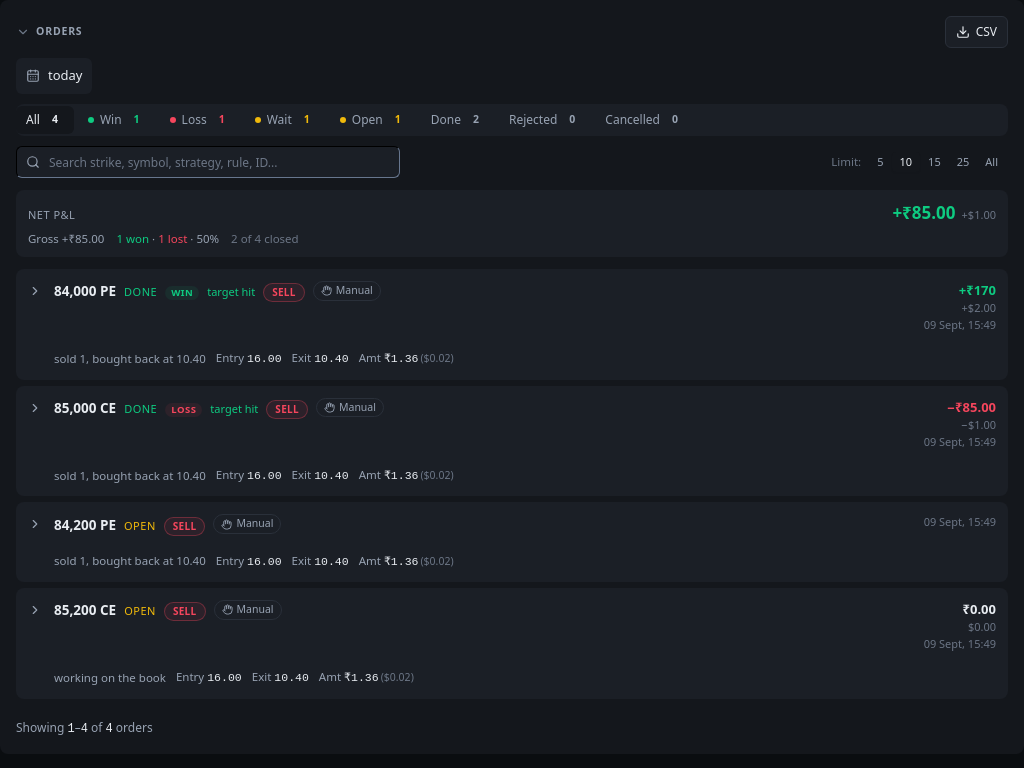
Test case: best practice tabs: win, loss, wait, open › shows Win, Loss, and Wait tabs with counts and filters correctly
Expected: the radio button with aria-label "Loss · 1" is shown, [160,106,241,134]
Expected: the radio button with aria-label "Open · 1" is shown, [330,106,417,134]
// Click Win tab: only profitable completed trade is shown
Click the radio button with aria-label "Win · 1": (117,120) [78,106,156,134]
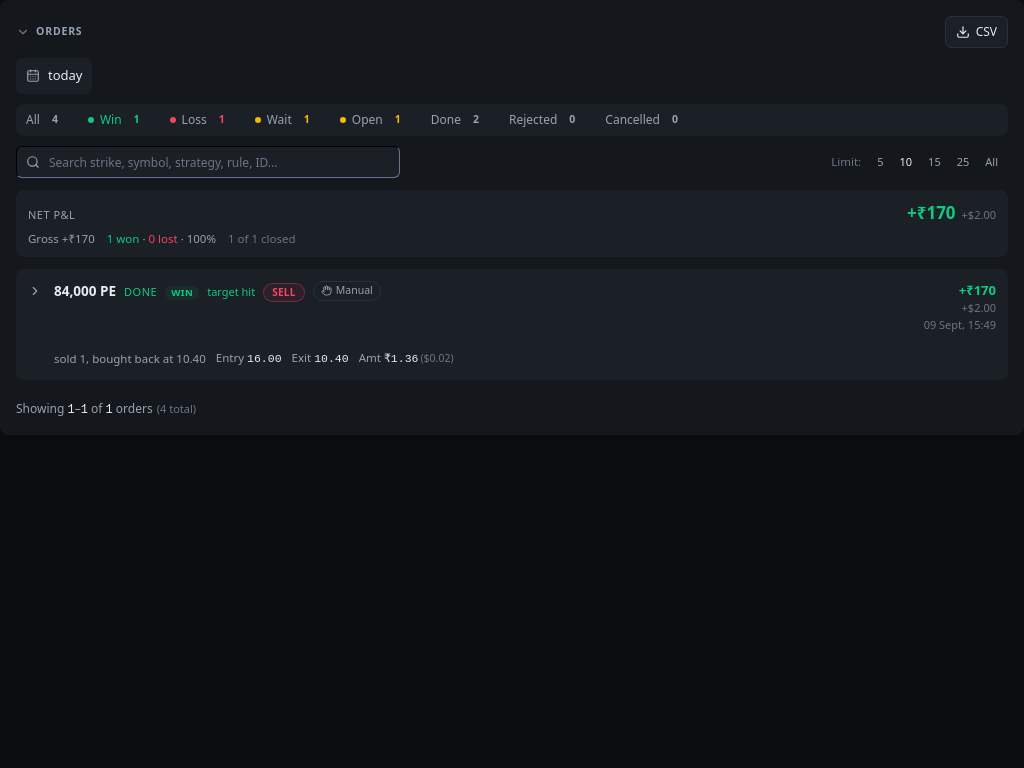
Expected: the text "84,000 PE" is shown, [54,281,116,301]
Now the button "85,000" is gone
Now the button "84,200" is gone
// Click Loss tab: only losing completed trade is shown
Click the radio button with aria-label "Loss · 1": (200,120) [160,106,241,134]
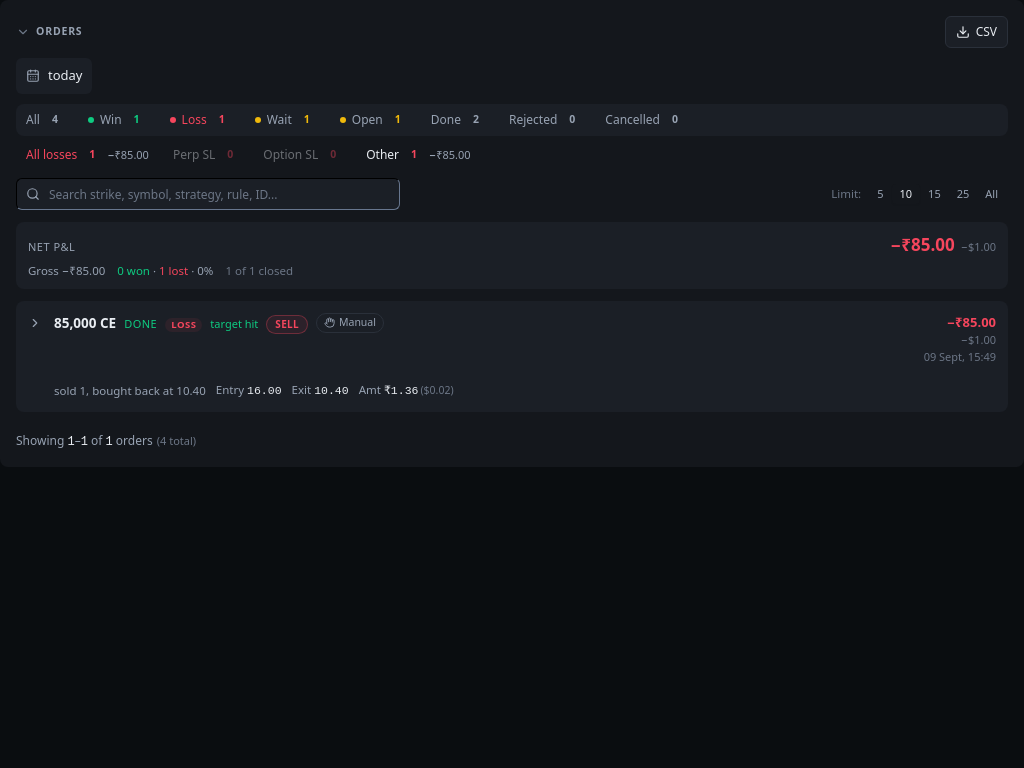
Now the text "85,000 CE" is shown, box [54,313,116,333]
Now the button "84,000" is gone
// Click Wait tab: only working order waiting on book is shown
Click the radio button with aria-label "Wait · 1": (285,120) [245,106,326,134]
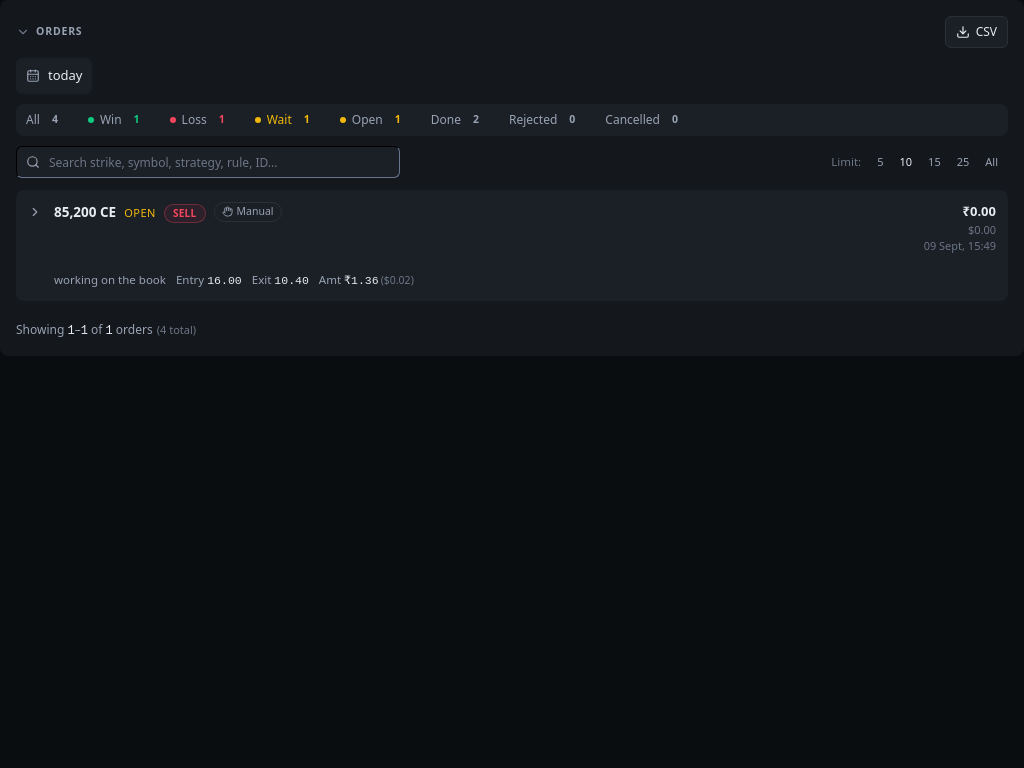
Expected: the button "84,000" is not shown
Now the text "85,200 CE" is shown, box [54,202,116,223]
